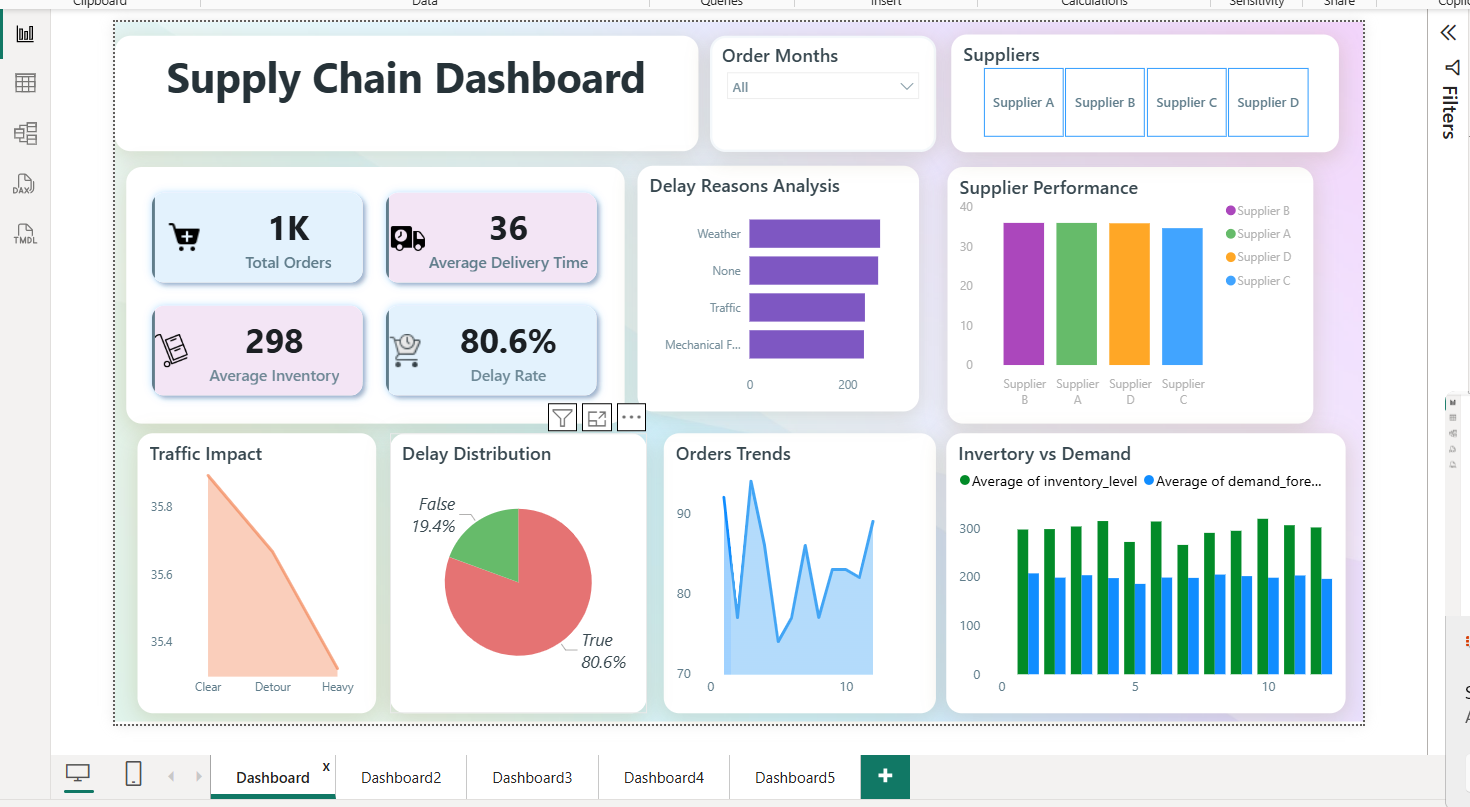

This screenshot's page, from the dashboard's own definition file:
{"tool":"powerbi","page":{"name":"Dashboard","canvas":[1280,720],"ordinal":0},"visuals":[{"type":"textbox","box":[0,14.5,598.4,118.2],"z":0},{"type":"cardVisual","fields":{"Data":["CountNonNull(Supply_Chain.order_date)","Avg(Supply_Chain.delivery_time)","Avg(Supply_Chain.inventory_level)","Sum(Supply_Chain.Delay %)"]},"box":[12.1,148.4,511.5,263],"z":1000},{"type":"columnChart","title":"Supplier Performance","fields":{"Category":["Supply_Chain.supplier"],"Series":["Supply_Chain.supplier"],"Y":["Avg(Supply_Chain.delivery_time)"]},"box":[853.5,149.2,375.4,262.9],"z":2000},{"type":"lineChart","title":"Orders Trends","fields":{"Category":["Supply_Chain.order_month"],"Y":["CountNonNull(Supply_Chain.order_month)"]},"box":[562.9,421.9,279.5,287.5],"z":3000},{"type":"barChart","title":"Delay Reasons Analysis","fields":{"Y":["CountNonNull(Supply_Chain.logistics_delay_reason)"],"Category":["Supply_Chain.logistics_delay_reason"]},"box":[535.6,148,288.6,251.9],"z":4000},{"type":"areaChart","title":"Traffic Impact","fields":{"Category":["Supply_Chain.traffic_status"],"Y":["Avg(Supply_Chain.delivery_time)"]},"box":[22.6,421.9,244.9,287.5],"z":5000},{"type":"pieChart","title":"Delay Distribution","fields":{"Category":["Supply_Chain.is_delayed"],"Y":["CountNonNull(Supply_Chain.is_delayed)"]},"box":[282.1,421.9,263.5,287.5],"z":6000},{"type":"slicer","title":"Order Months","fields":{"Values":["Supply_Chain.order_month"]},"box":[610.3,14.1,232.1,119.2],"z":7000},{"type":"slicer","title":"Suppliers","fields":{"Values":["Supply_Chain.supplier"]},"box":[857.7,12.8,397.4,120.5],"z":8000},{"type":"clusteredColumnChart","title":"Invertory vs Demand","fields":{"Category":["Supply_Chain.order_month"],"Y":["Avg(Supply_Chain.inventory_level)","Avg(Supply_Chain.demand_forecast)"]},"box":[853.1,421.9,409.9,287.5],"z":9000}]}

Visuals, with their boxes on the page's 1280x720 design canvas (x1, y1, x2, y2). These are canvas units, not pixel positions in the 1470x807 screenshot, which may show the page scaled, cropped or inside an application window:
textbox: <region>0, 14, 598, 133</region>
cardVisual - CountNonNull(Supply_Chain.order_date) x Avg(Supply_Chain.delivery_time): <region>12, 148, 524, 411</region>
"Supplier Performance" columnChart: <region>854, 149, 1229, 412</region>
"Orders Trends" lineChart: <region>563, 422, 842, 709</region>
"Delay Reasons Analysis" barChart: <region>536, 148, 824, 400</region>
"Traffic Impact" areaChart: <region>23, 422, 268, 709</region>
"Delay Distribution" pieChart: <region>282, 422, 546, 709</region>
"Order Months" slicer: <region>610, 14, 842, 133</region>
"Suppliers" slicer: <region>858, 13, 1255, 133</region>
"Invertory vs Demand" clusteredColumnChart: <region>853, 422, 1263, 709</region>
